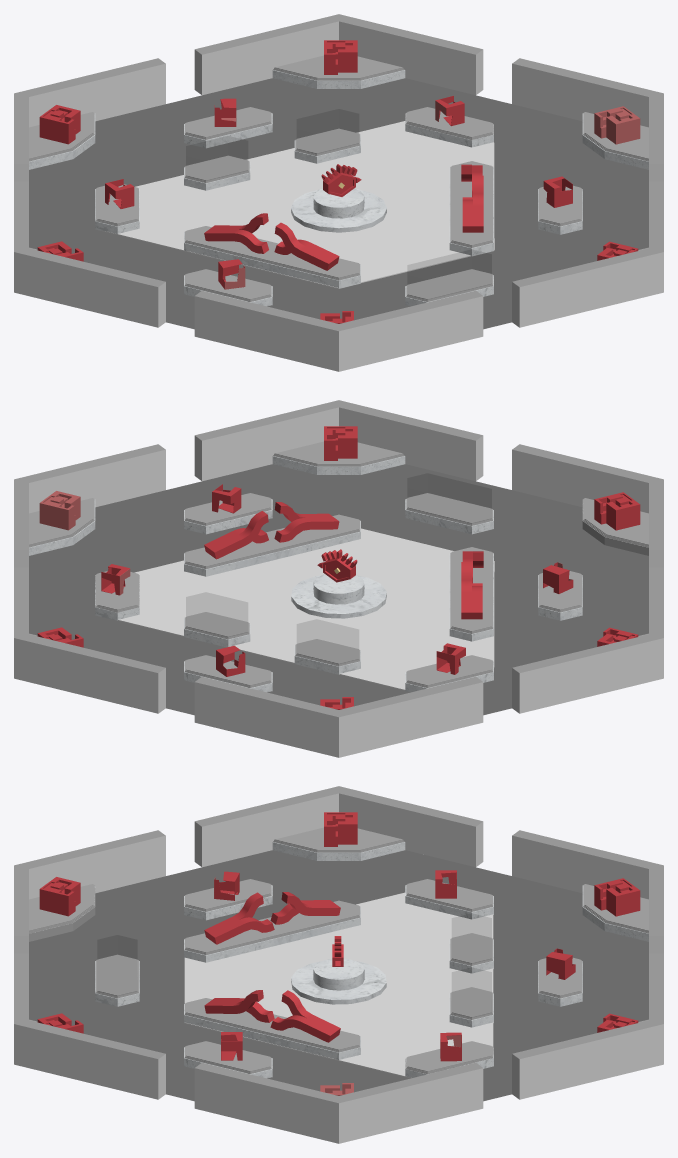
The model's file is HALL.fbx.
The picture shows the model from 3 angles, top to bottom: view 1: azimuth 30°, elevation 25°; view 2: azimuth 150°, elevation 25°; view 3: azimuth 270°, elevation 25°; orthographic projection.
Visible parts, largest first — view 1: Objeto_39.003, Objeto_39.004, Plane.017, Objeto_53, Objeto_124, Objeto_142, Objeto_104, Stand_15, Objeto_9, Objeto_1.002, Objeto_5, Objeto_107 (+22 smaller); view 2: Objeto_39.003, Objeto_39.004, Plane.017, Objeto_53, Objeto_124, Objeto_142, Objeto_104, Stand_9, Objeto_138, Objeto_3, Objeto_1.002, Objeto_110 (+22 smaller); view 3: Objeto_39.003, Objeto_39.004, Plane.017, Objeto_53, Objeto_142, Objeto_124, Objeto_104, Stand_15, Stand_9, Objeto_132, Objeto_5, Objeto_51 (+20 smaller).
Boxes of the visible parts, <box> form: Objeto_39.003: <box>14,14,663,371</box>; Objeto_39.004: <box>29,78,648,329</box>; Plane.017: <box>101,121,494,288</box>; Objeto_53: <box>291,189,386,232</box>; Objeto_124: <box>452,161,491,245</box>; Objeto_142: <box>186,226,358,278</box>; Objeto_104: <box>407,269,491,299</box>; Stand_15: <box>184,232,360,288</box>; Objeto_9: <box>274,55,403,78</box>; Objeto_1.002: <box>594,106,640,144</box>; Objeto_5: <box>39,105,80,144</box>; Objeto_107: <box>186,269,270,299</box>; Objeto_39.003: <box>14,400,663,757</box>; Objeto_39.004: <box>29,464,648,715</box>; Plane.017: <box>118,528,494,690</box>; Objeto_53: <box>291,575,386,618</box>; Objeto_124: <box>186,514,358,566</box>; Objeto_142: <box>452,547,491,631</box>; Objeto_104: <box>407,493,491,523</box>; Stand_9: <box>184,521,360,576</box>; Objeto_138: <box>274,441,403,464</box>; Objeto_3: <box>594,492,640,530</box>; Objeto_1.002: <box>39,491,80,530</box>; Objeto_110: <box>407,655,491,685</box>; Objeto_39.003: <box>14,786,663,1143</box>; Objeto_39.004: <box>29,850,648,1101</box>; Plane.017: <box>184,892,493,1078</box>; Objeto_53: <box>291,961,386,1004</box>; Objeto_142: <box>186,900,358,952</box>; Objeto_124: <box>186,998,358,1050</box>; Objeto_104: <box>97,954,137,996</box>; Stand_15: <box>184,907,360,962</box>; Stand_9: <box>184,1004,360,1059</box>; Objeto_132: <box>274,827,403,850</box>; Objeto_5: <box>594,878,640,916</box>; Objeto_51: <box>313,958,364,990</box>.
Bounding box in the file's own units: 4357 × 5031 × 356.
